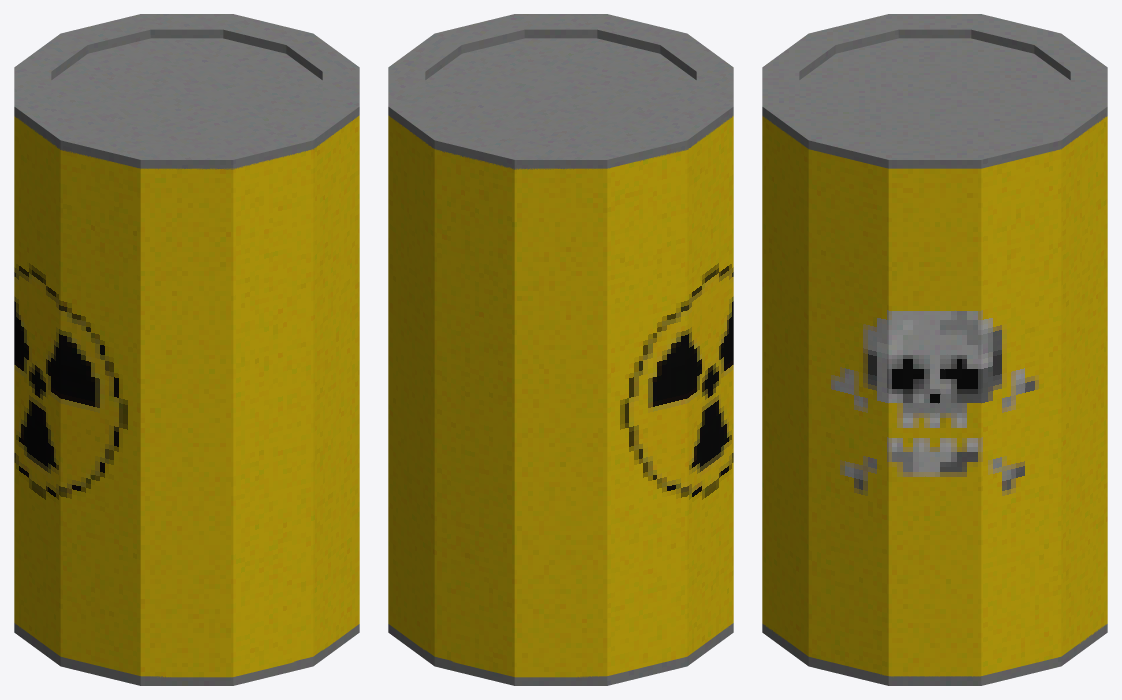
File: NuclearBarrel.gltf
The picture shows the model from 3 angles, left to right: view 1: azimuth 30°, elevation 25°; view 2: azimuth 150°, elevation 25°; view 3: azimuth 270°, elevation 25°; orthographic projection.
Visible parts, largest first — view 1: Barrel; view 2: Barrel; view 3: Barrel.
Part boxes in pixels (x1,y1,x2,y2): Barrel: (14,14,359,685); Barrel: (388,14,733,685); Barrel: (762,14,1107,685).
Bounding box in the file's own units: 1 × 1.68 × 1.
Materials: 1 (1 with a texture image).
